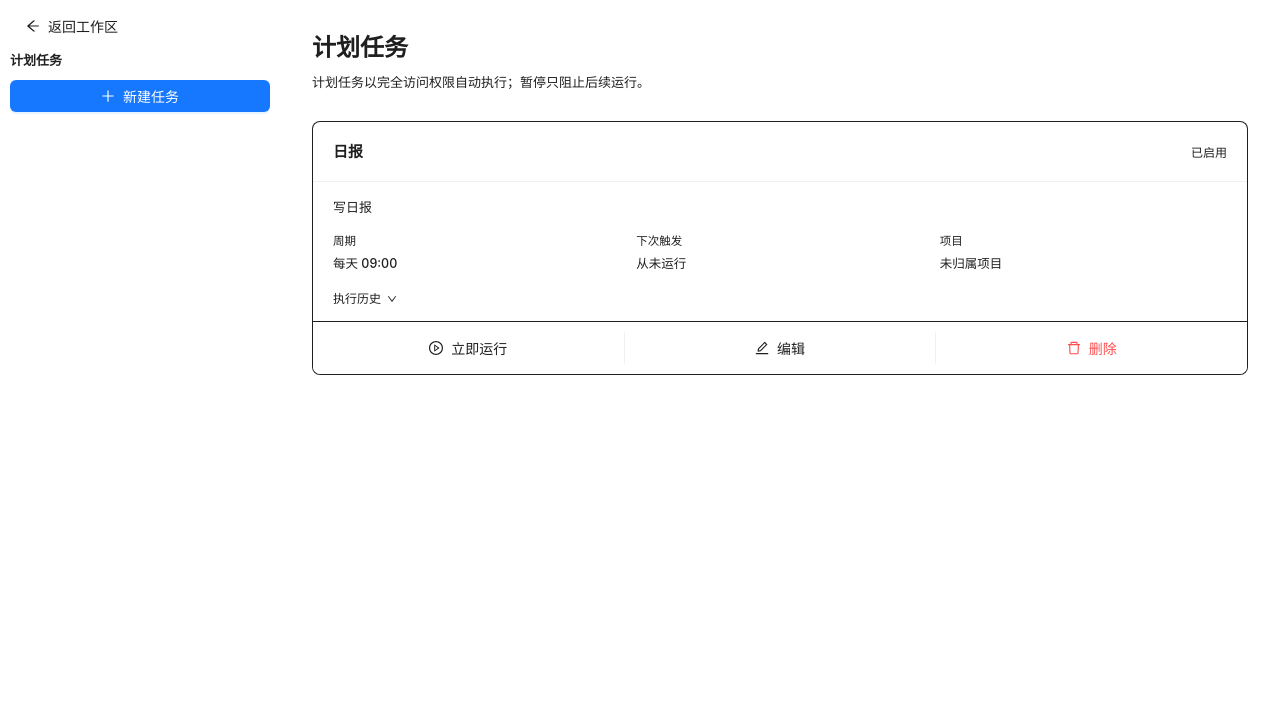
Test: 任务页：执行历史 › 没有执行记录时空态文案
This screenshot has width=1280, height=720.
Click the button with class "task-row-main" at coordinates (353, 207), box [333, 199, 1002, 306]
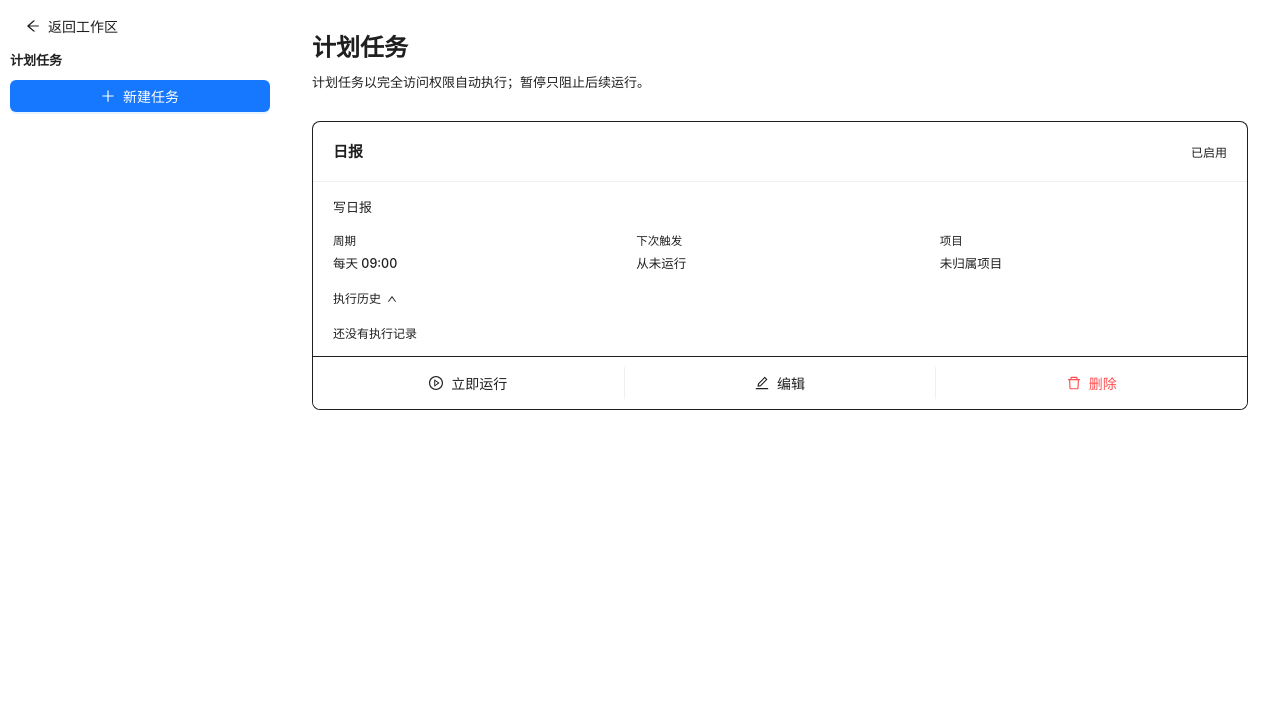
Expected: the text "还没有执行记录" is shown, [333, 326, 417, 341]
